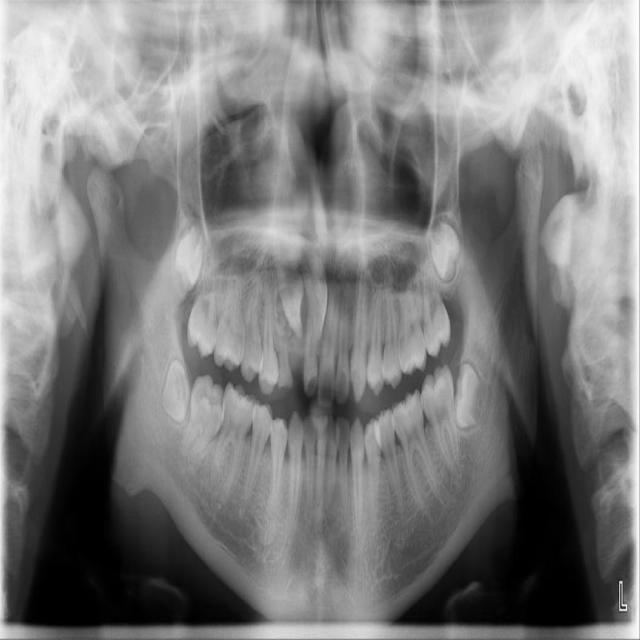3M ESPE Implant: (169, 221, 208, 293)
73: (621, 612, 631, 620)
BioHorizons Implant: (417, 229, 452, 357)
BioLife Implant: (427, 217, 465, 282)
Biomet 3i Implant: (450, 362, 490, 430)
Blue Sky Bio Implant: (417, 364, 463, 476)
Caries: (186, 233, 221, 358)
Implant: (178, 372, 231, 469)
Keystone Dental Implant: (163, 360, 189, 422)
